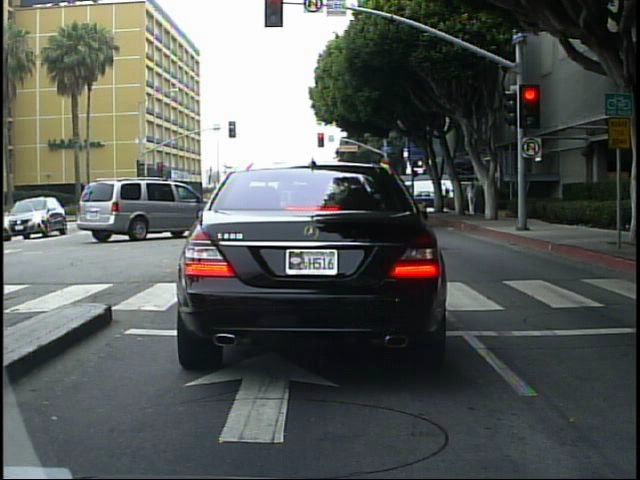person: (630, 166, 639, 280), (631, 166, 639, 287), (464, 180, 479, 219), (437, 179, 453, 215)
